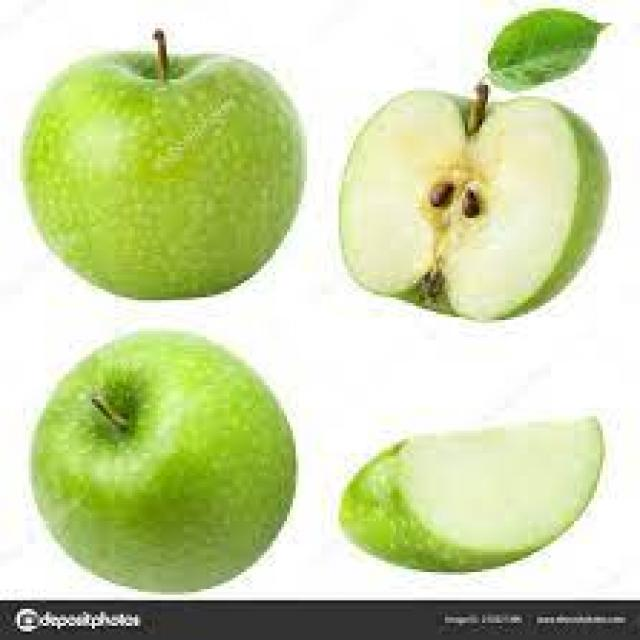Apple: (22, 49, 303, 298), (34, 328, 294, 592), (341, 92, 610, 320), (336, 416, 600, 570)
